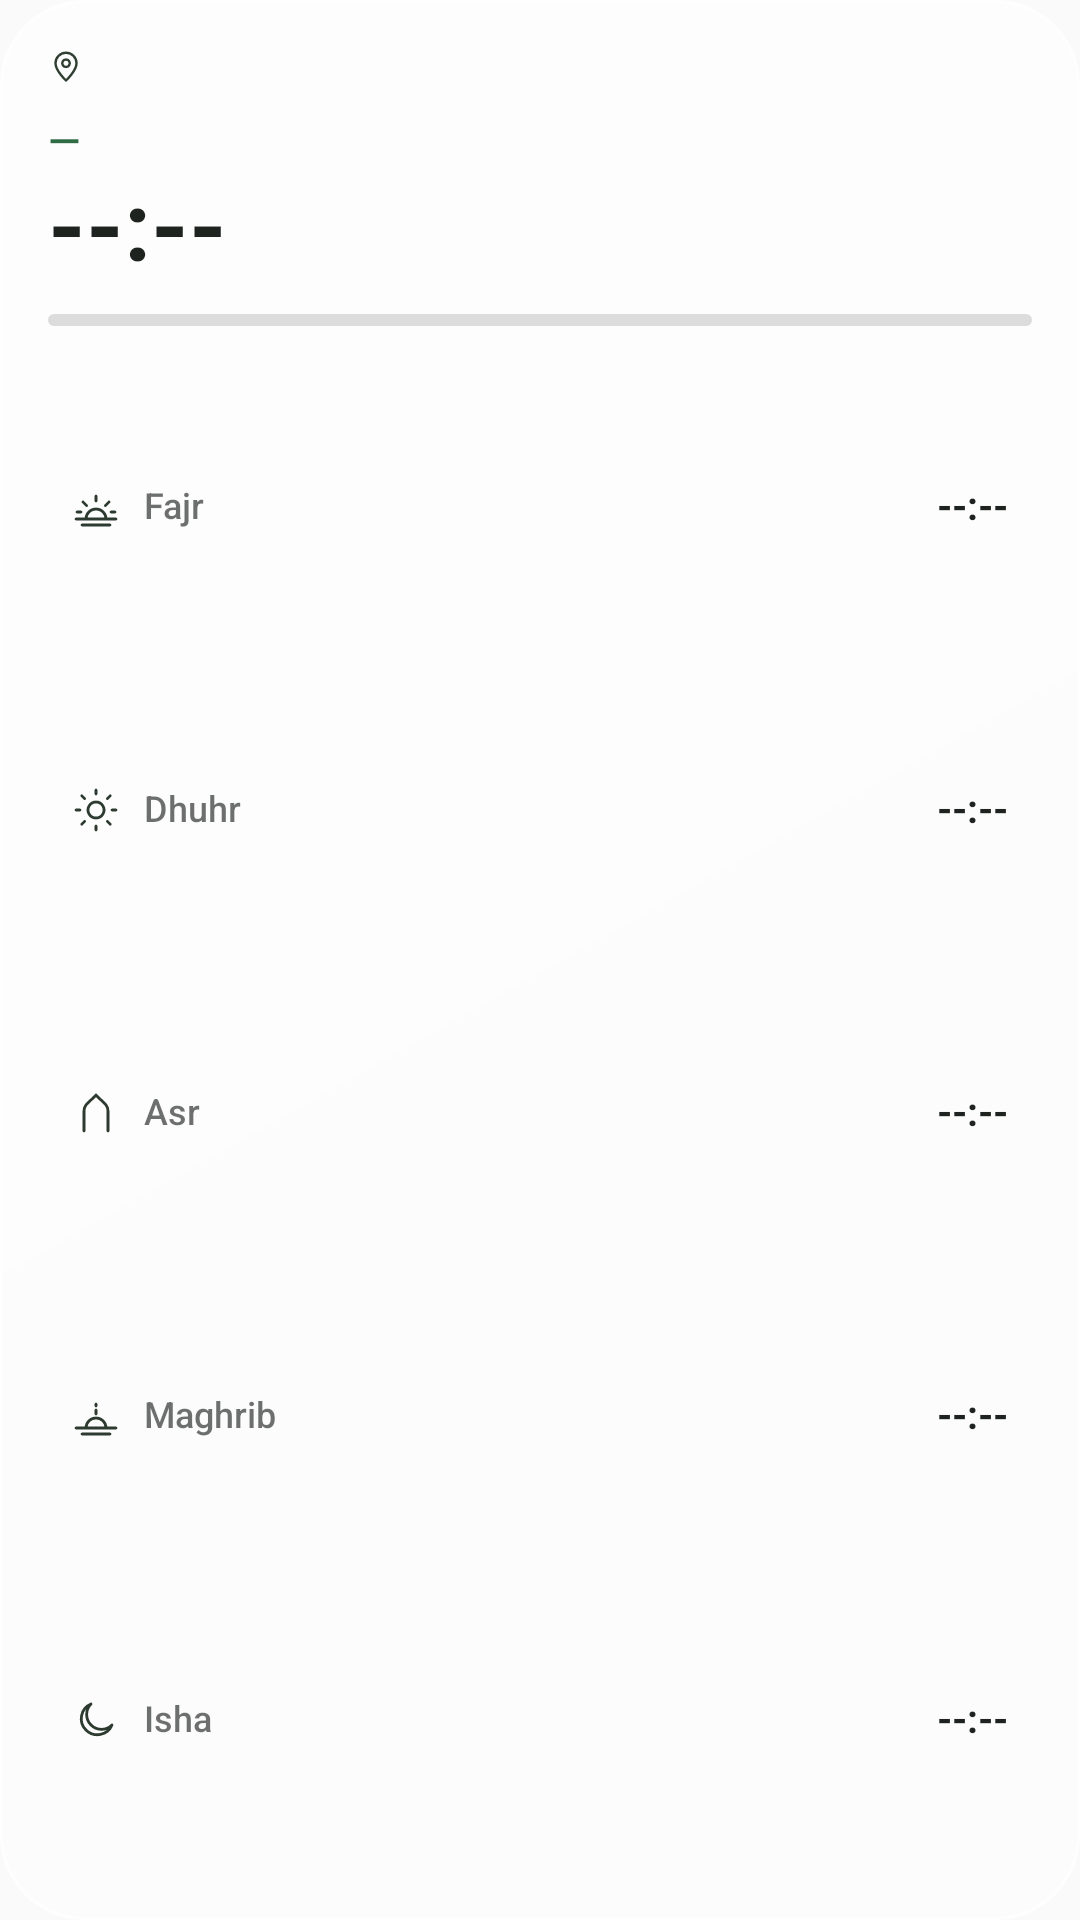

Point at icon controls on the screen. Image size 1080px×1920px, points as point (x, y).
pin: point (66, 66)
